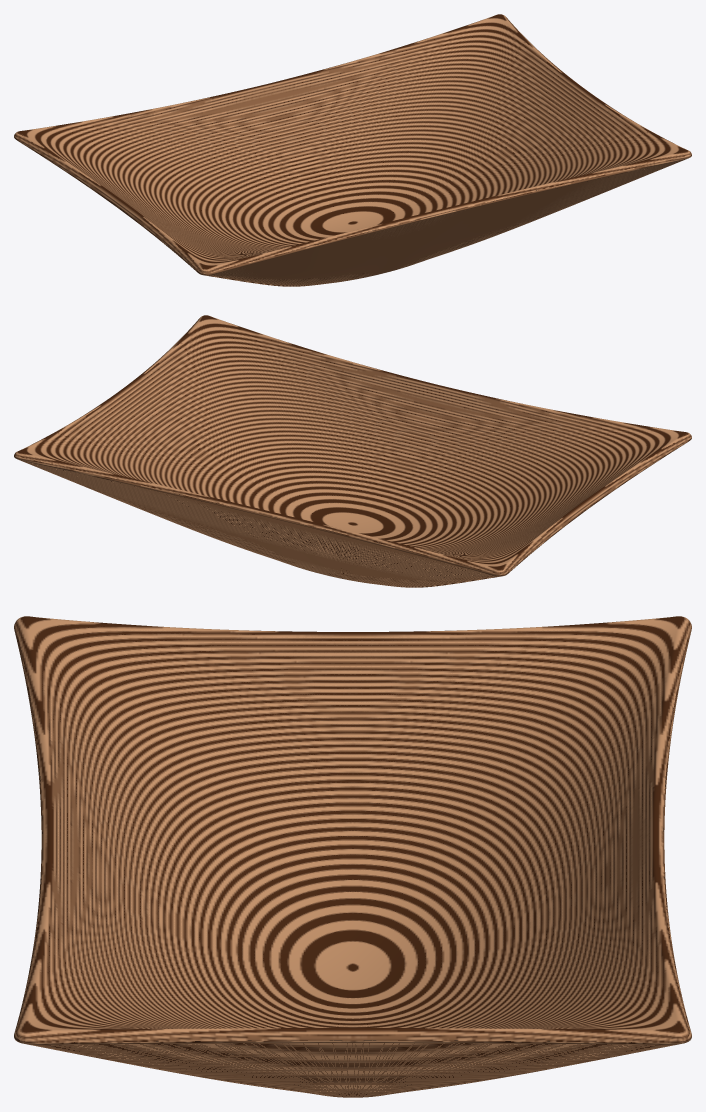
Rendered from Заготовка4.glb.
3 renders of one model, top to bottom at view 1: azimuth 30°, elevation 25°; view 2: azimuth 150°, elevation 25°; view 3: azimuth 270°, elevation 25°, orthographic. The views are drawn at different scales.
Visible parts, largest first — view 1: Solid_115; view 2: Solid_115; view 3: Solid_115.
Part boxes in pixels (box(x1,y1,x2,y2)): Solid_115: box(14, 14, 691, 286); Solid_115: box(14, 315, 691, 587); Solid_115: box(14, 616, 691, 1097).
Size of the model in its own units: 558 by 121 by 378.
Materials: 1 (1 with a texture image).
